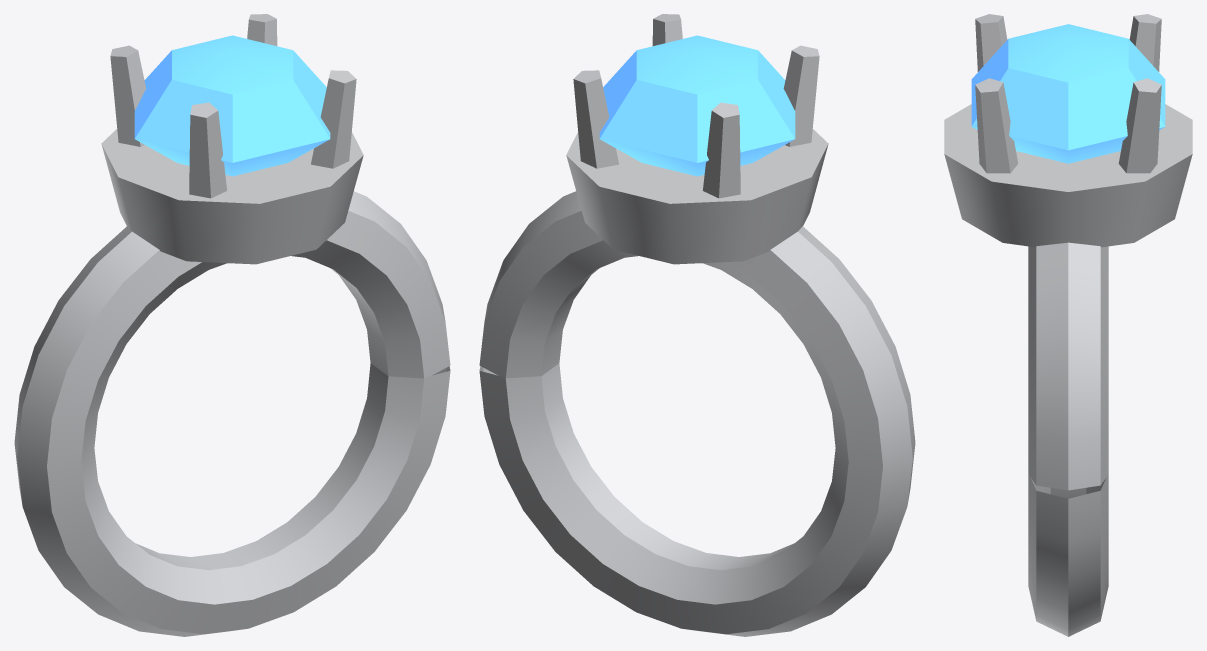
The model's file is silver_ring.glb.
The picture shows the model from 3 angles, left to right: view 1: azimuth 30°, elevation 25°; view 2: azimuth 150°, elevation 25°; view 3: azimuth 270°, elevation 25°; orthographic projection.
Visible parts, largest first — view 1: silver_ring; view 2: silver_ring; view 3: silver_ring.
Boxes of the visible parts, <box> form: silver_ring: <box>14,14,450,636</box>; silver_ring: <box>479,14,915,636</box>; silver_ring: <box>944,14,1192,636</box>.
Bounding box in the file's own units: 0.0264 × 0.034 × 0.0133.
